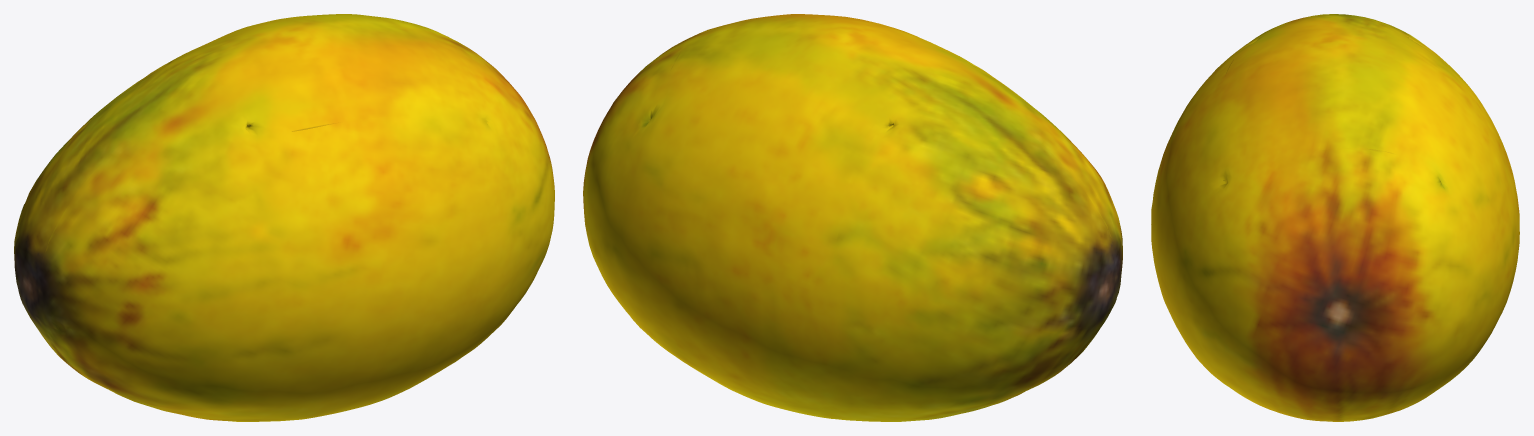
Rendered from suica-melon.glb.
3 renders of one model, left to right at view 1: azimuth 30°, elevation 25°; view 2: azimuth 150°, elevation 25°; view 3: azimuth 270°, elevation 25°, orthographic. The views are drawn at different scales.
Visible parts, largest first — view 1: Mesh; view 2: Mesh; view 3: Mesh.
Part boxes in pixels (x1,y1,x2,y2): Mesh: (14,14,554,421); Mesh: (583,14,1122,421); Mesh: (1151,14,1519,421).
Size of the model in its own units: 108 by 75.99 by 73.94.
Materials: 1 (1 with a texture image).
